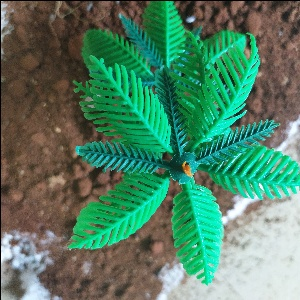plant: (65, 1, 300, 289)
